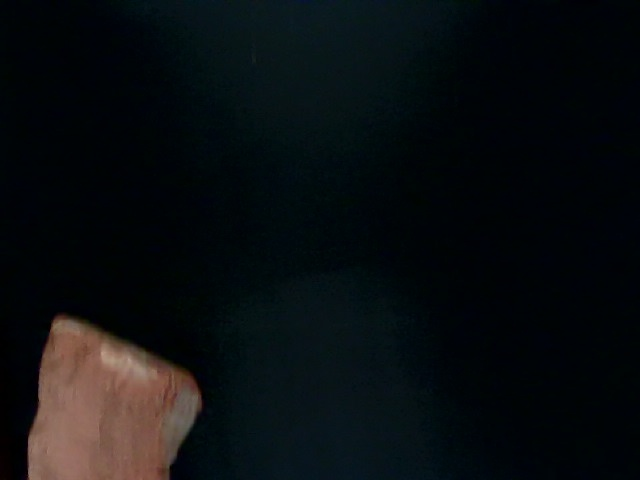KHSLJ: (1, 306, 305, 480)
